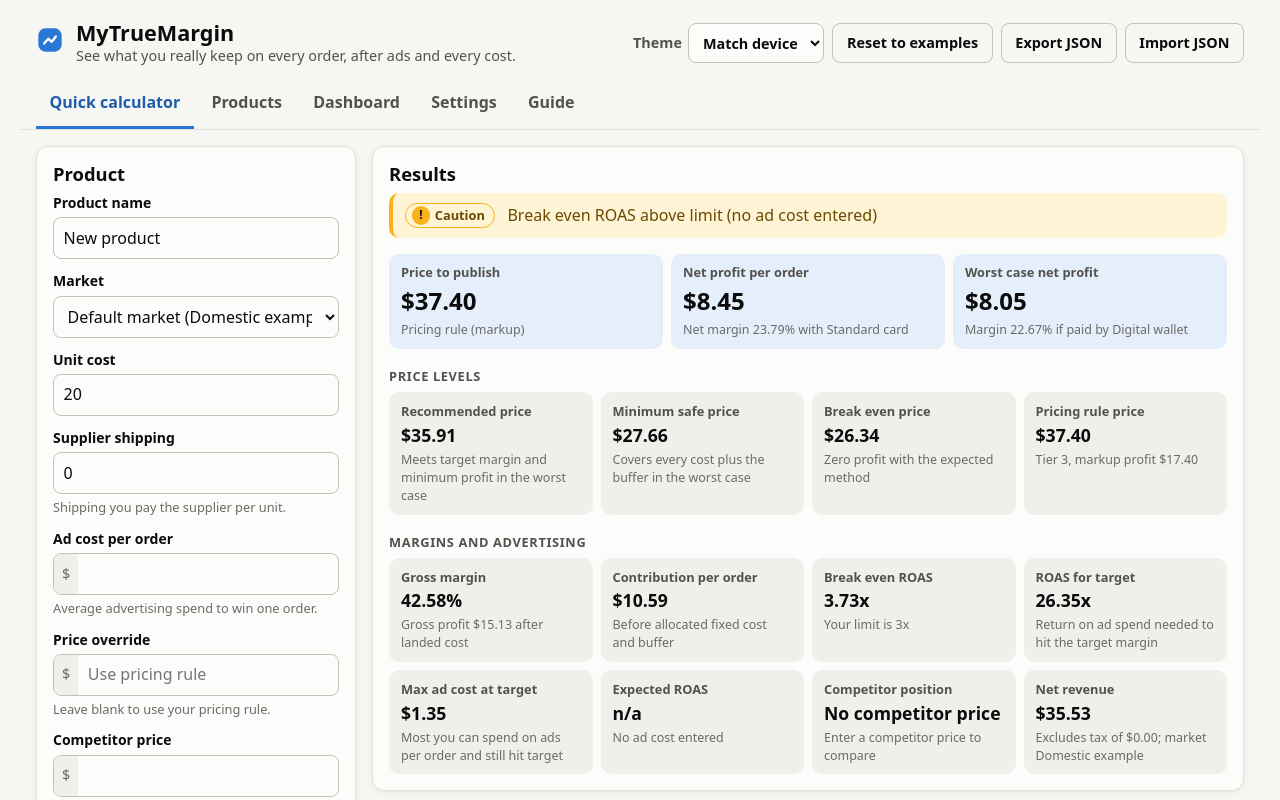
Test: App › falls back to the examples when stored data is corrupt
The image size is (1280, 800).
Click the tab "Products". click: (247, 104)
box: [198, 79, 296, 129]
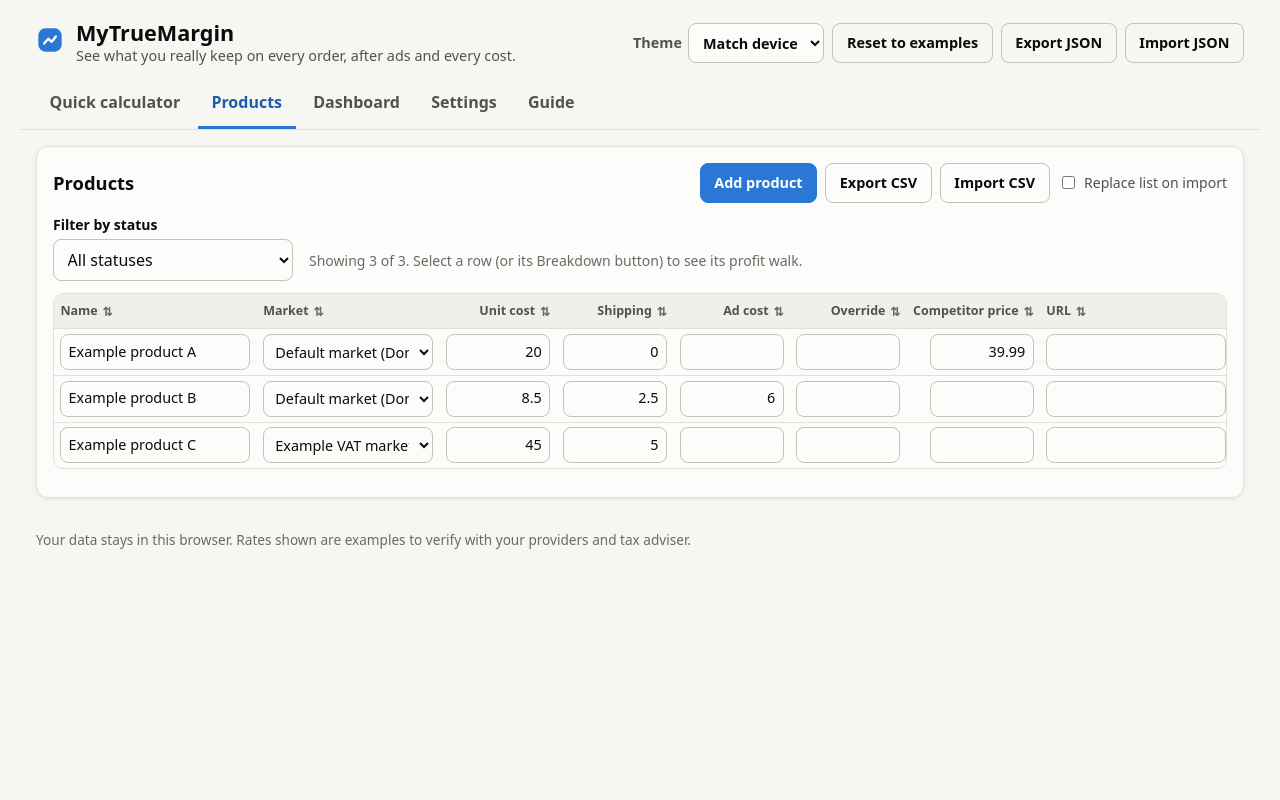
Check: the 1st field showing "Example product A" is shown, box [61, 335, 249, 369]
